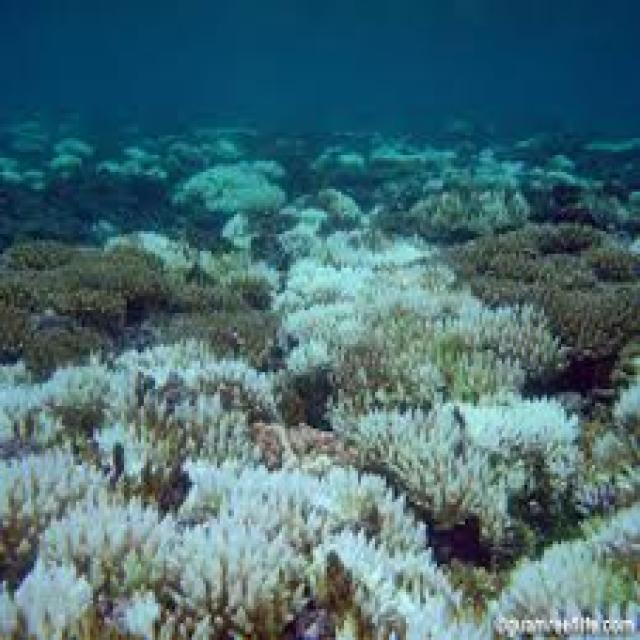Bleached: (352, 398, 585, 525), (39, 503, 298, 597), (487, 511, 640, 640), (183, 461, 378, 542), (370, 480, 454, 640), (273, 247, 364, 375), (1, 557, 91, 640), (324, 265, 459, 317), (117, 347, 270, 391), (1, 450, 95, 518), (179, 159, 285, 210), (1, 364, 61, 445), (55, 365, 137, 410), (360, 232, 432, 272), (94, 423, 145, 476), (110, 231, 191, 262), (310, 534, 375, 564), (289, 203, 329, 248), (615, 367, 640, 435), (322, 191, 369, 225), (447, 613, 500, 640), (224, 212, 253, 248)
Healthy: (1, 252, 163, 375), (457, 261, 640, 312), (388, 326, 508, 395), (440, 224, 606, 268), (164, 312, 282, 365), (252, 419, 355, 473), (138, 420, 207, 500), (553, 293, 640, 355), (162, 593, 266, 640), (331, 346, 408, 404), (277, 368, 339, 428), (160, 282, 251, 317), (593, 548, 640, 605), (583, 244, 640, 285), (263, 607, 328, 640), (1, 240, 71, 269), (325, 560, 357, 609), (576, 481, 620, 512)
